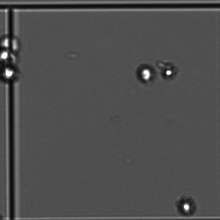Living Cell: (173, 194, 200, 216), (134, 61, 157, 84), (1, 63, 22, 84), (159, 60, 179, 81), (1, 47, 15, 63)
